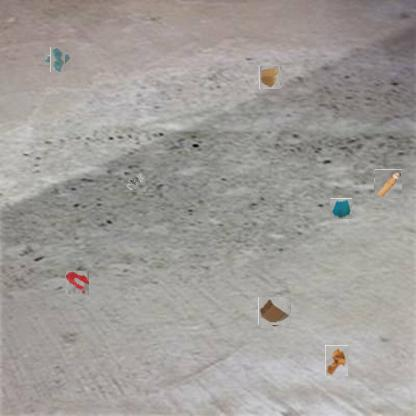dirty: (260, 296, 290, 327), (374, 169, 402, 198), (325, 345, 348, 376), (259, 66, 281, 89), (330, 198, 352, 219), (124, 172, 146, 192)
liquid: (66, 271, 90, 295), (48, 49, 68, 70)
